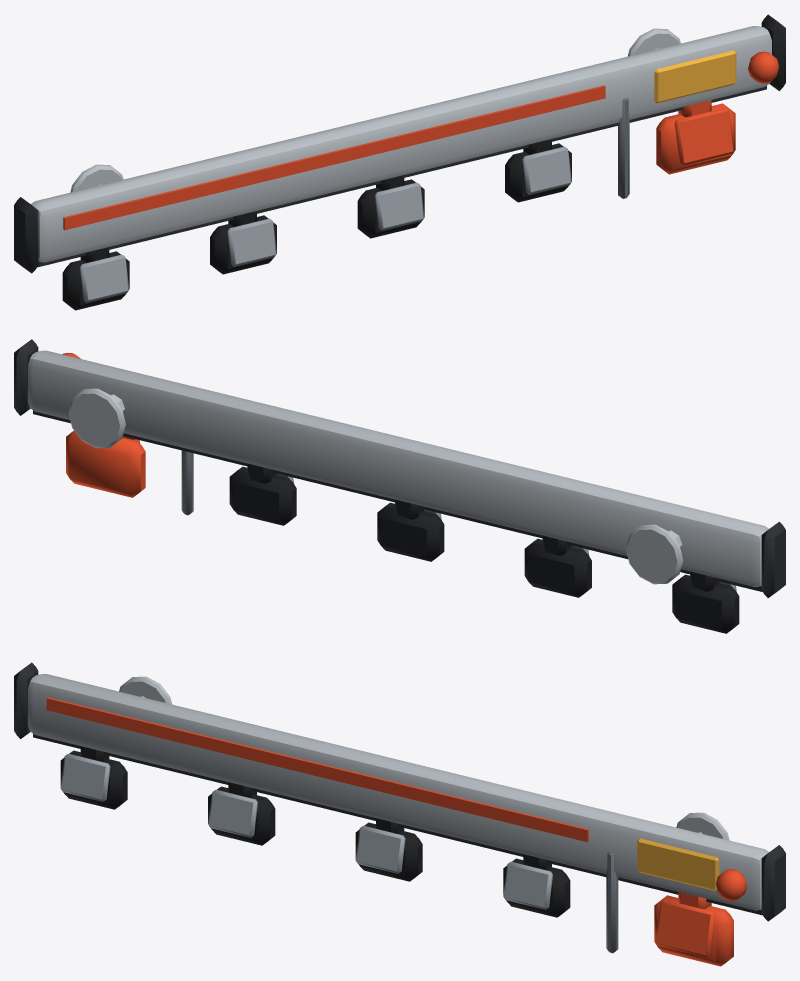
The model's file is Kitchen_TicketRail.fbx.
The picture shows the model from 3 angles, top to bottom: view 1: azimuth 30°, elevation 25°; view 2: azimuth 150°, elevation 25°; view 3: azimuth 330°, elevation 25°; orthographic projection.
Visible parts, largest first — view 1: Rail, Stripe, ClipLevers, Clips, PinnedClip, EndCaps, PinnedTag, Divider; view 2: Rail, Clips, EndCaps, PinnedClip, Divider; view 3: Rail, Stripe, ClipLevers, Clips, PinnedClip, EndCaps, PinnedTag, Divider.
Boxes of the visible parts, x1,y1,x2,y2 form: Rail: (31,26,771,262); Stripe: (63,85,605,230); ClipLevers: (79,146,571,302); Clips: (62,139,571,310); PinnedClip: (656,51,779,174); EndCaps: (14,14,785,273); PinnedTag: (654,50,736,103); Divider: (618,98,629,198); Rail: (28,350,768,586); Clips: (229,463,739,633); EndCaps: (14,339,785,597); PinnedClip: (62,352,145,497); Divider: (181,450,193,515); Rail: (28,674,768,910); Stripe: (46,697,588,842); ClipLevers: (60,753,552,909); Clips: (60,746,570,917); PinnedClip: (654,869,746,966); EndCaps: (14,662,785,921); PinnedTag: (637,838,719,891); Divider: (606,852,618,953).
Bounding box in the file's own units: 464 × 80 × 53.5.
